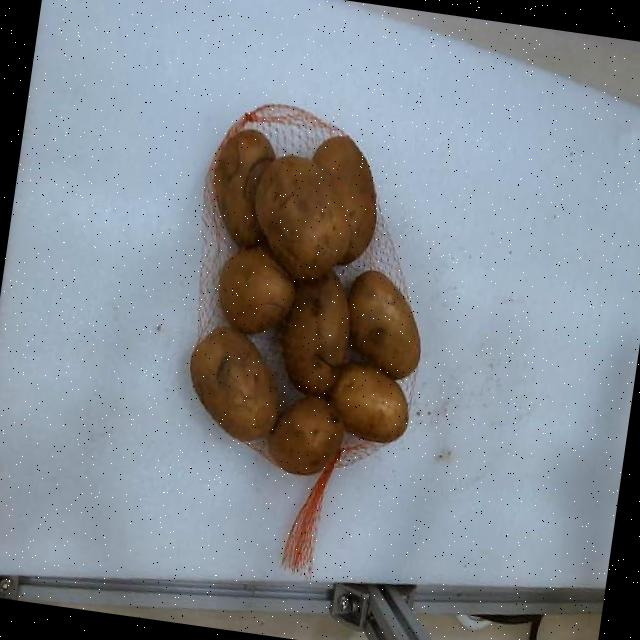potato: (256, 158, 350, 280), (191, 328, 279, 441), (283, 274, 350, 395), (313, 137, 376, 264), (348, 270, 420, 379), (213, 130, 275, 247), (219, 250, 295, 334), (330, 366, 407, 443), (269, 396, 344, 475)
